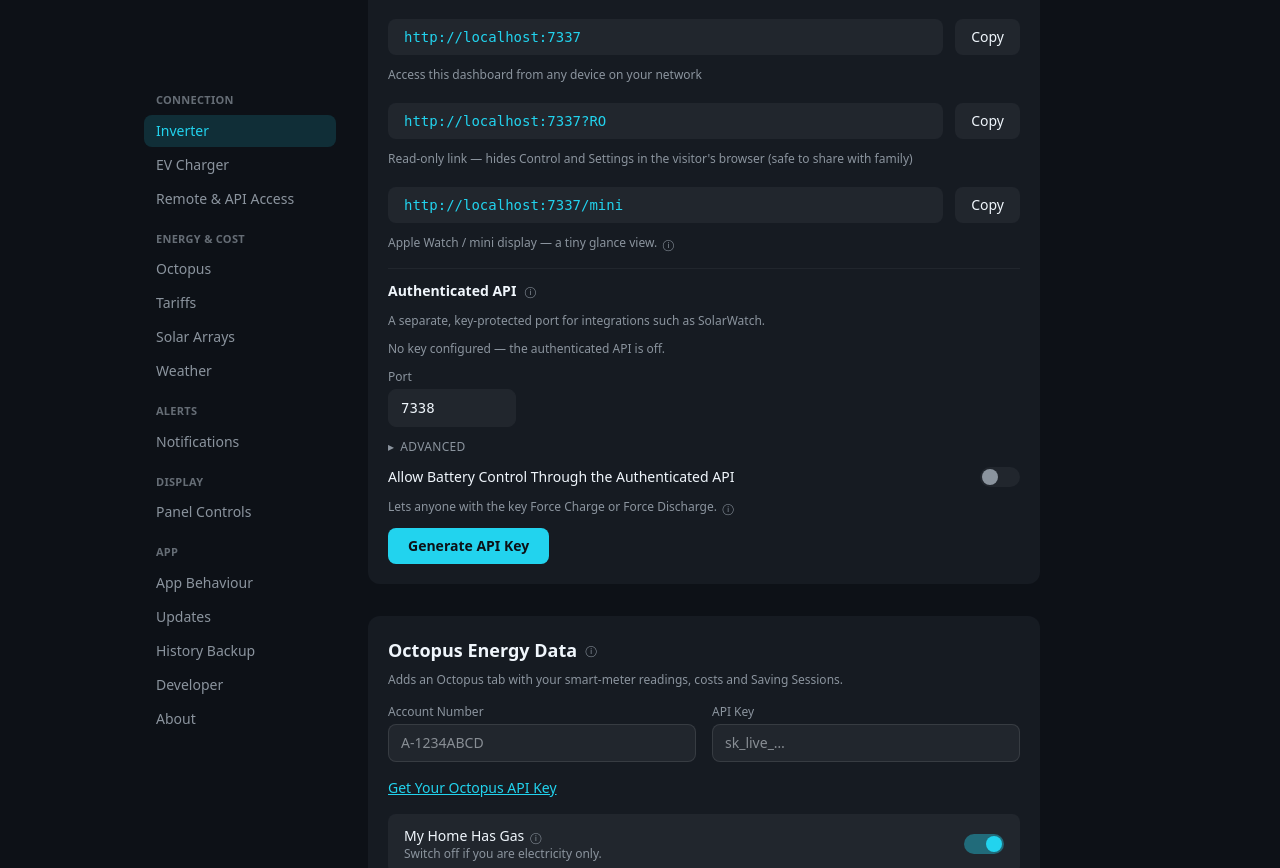
Scenario: <SettingsPage/> — save handlers & validation › refresh interval change › flashes an error message when the post fails
(page scrolled)
Click the button "▸ Advanced" at (427, 447), box [388,439,466,455]
(page scrolled)
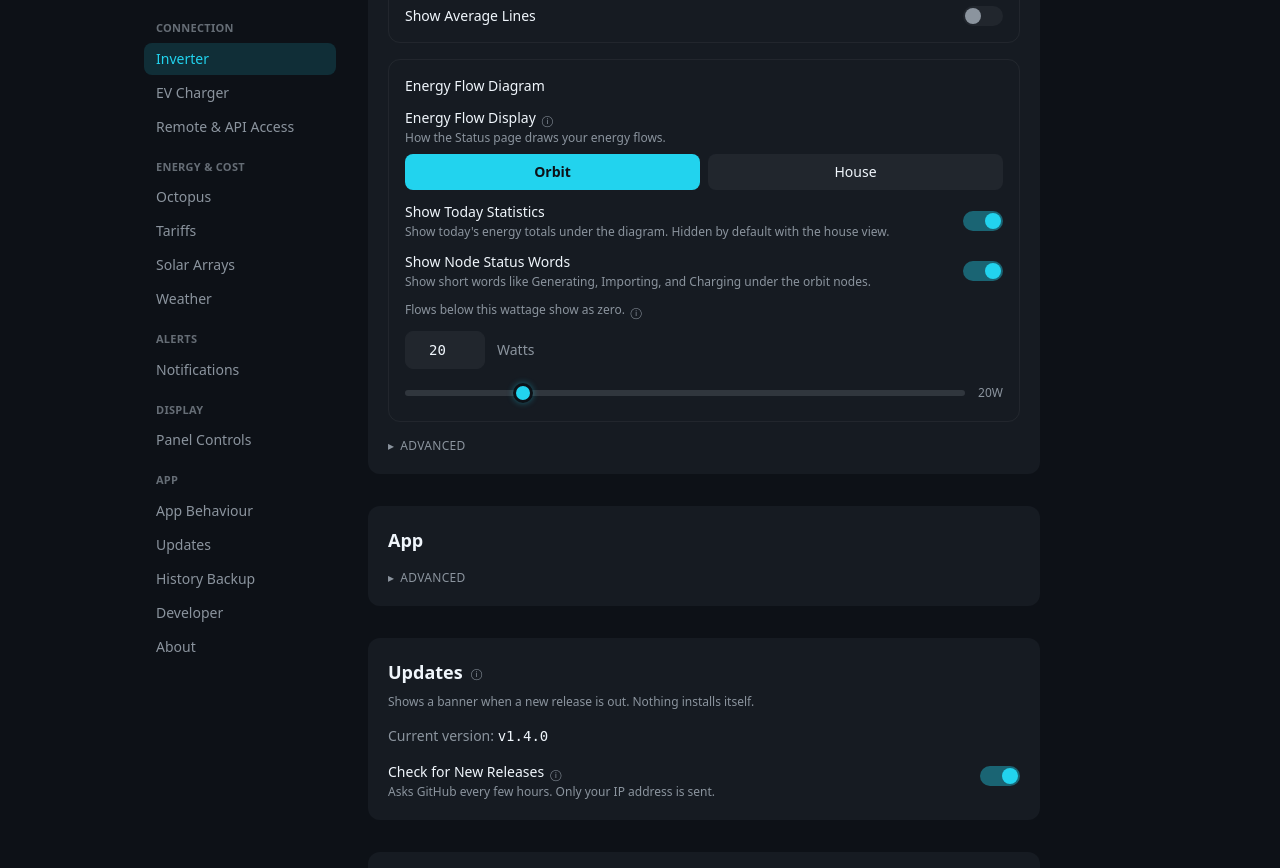
Click the button "▸ Advanced" below "Watts" at (427, 446), box [388,438,466,454]
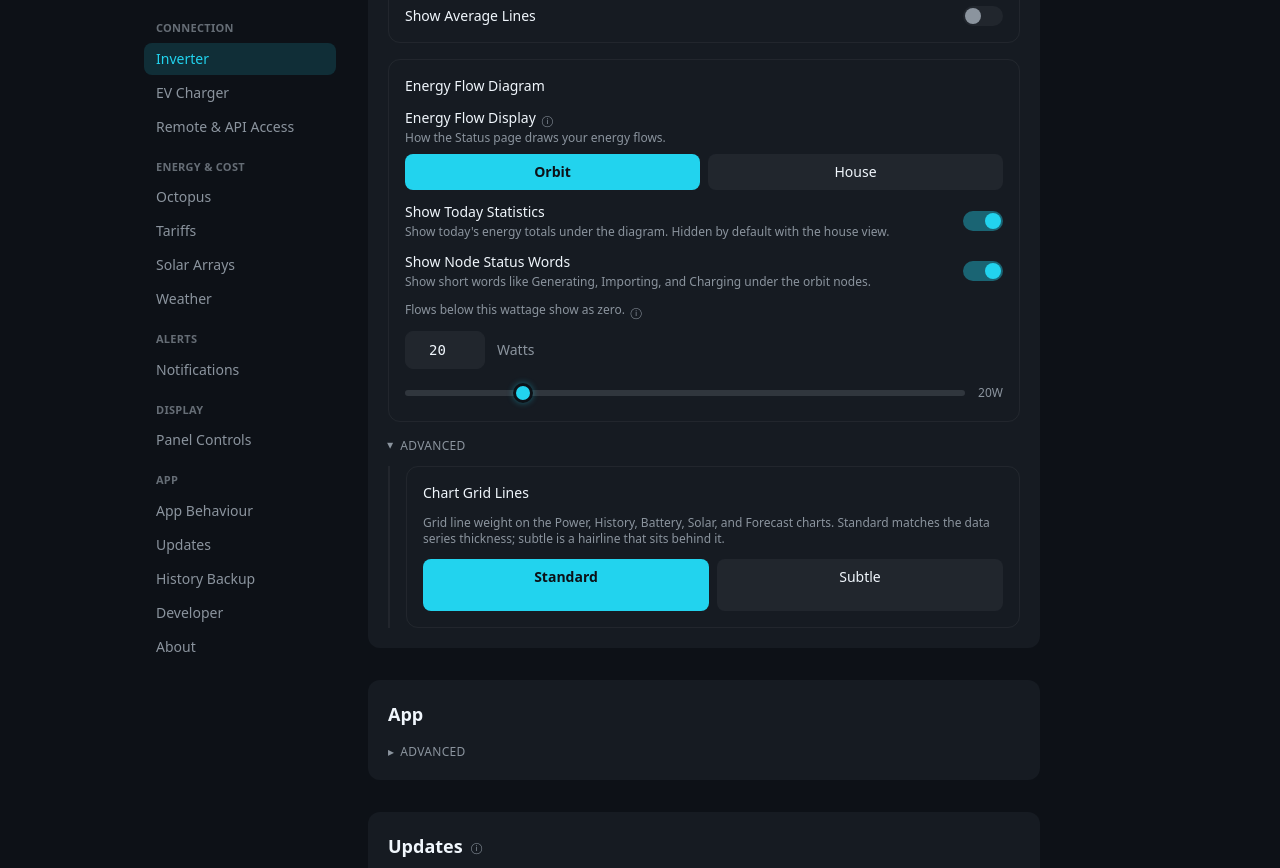
Click the 2nd button "▸ Advanced" at (427, 752), box [388,744,466,760]
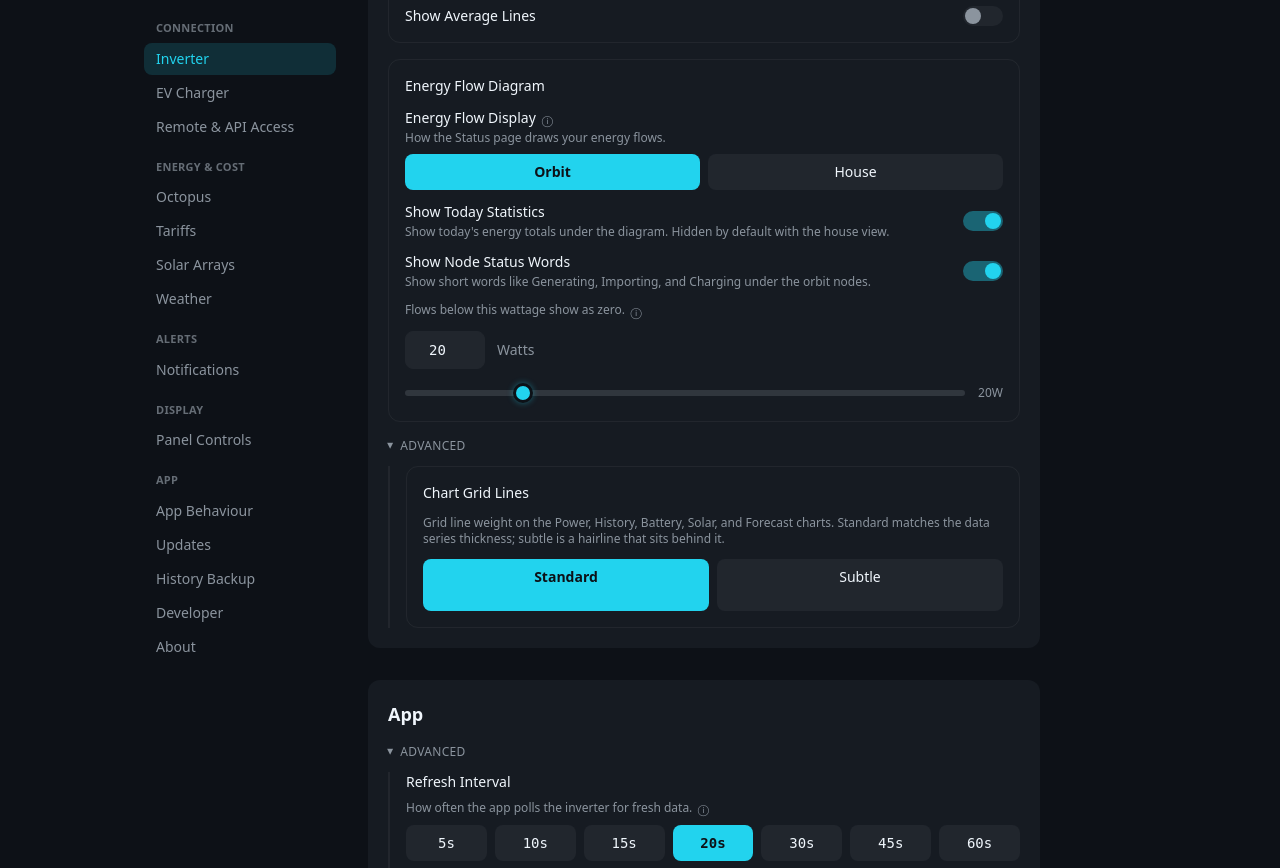
Check: the text "Refresh Interval" is shown, box [406,772,510,791]
Click the button "15s" at (624, 843), box [584,825,665,861]
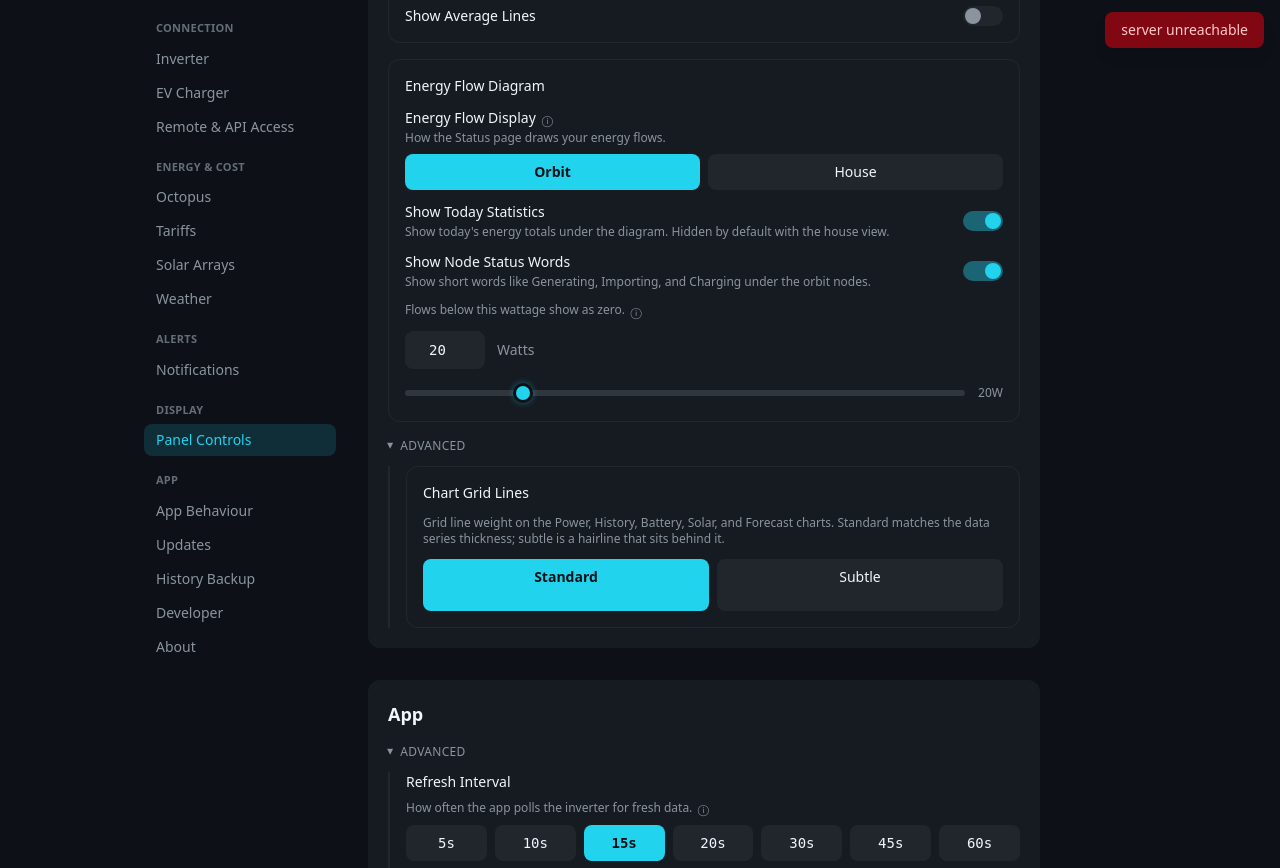
Check: the text "server unreachable" is shown, box [1105,12,1264,48]
